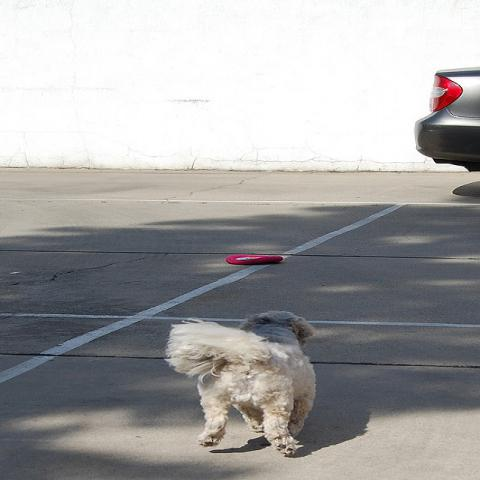car: (415, 65, 480, 171)
